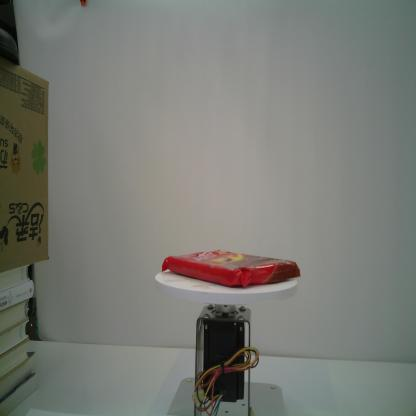Dessert: (161, 249, 301, 289)
